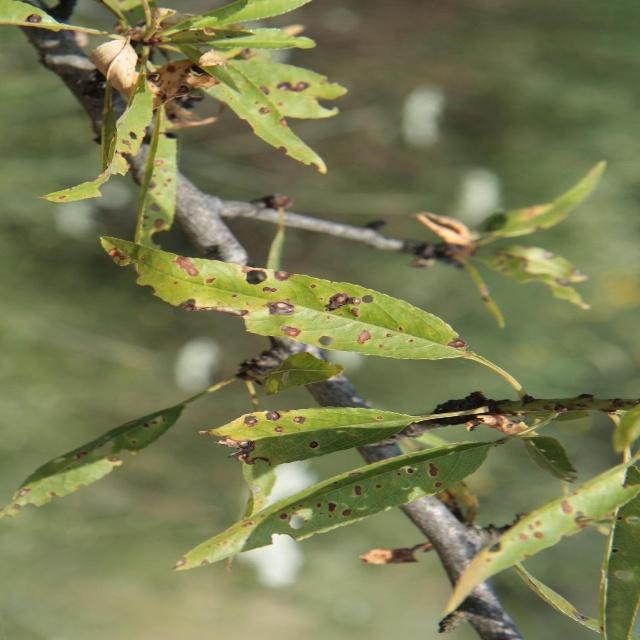leaf_spot: (14, 160, 568, 412), (18, 414, 562, 640)
